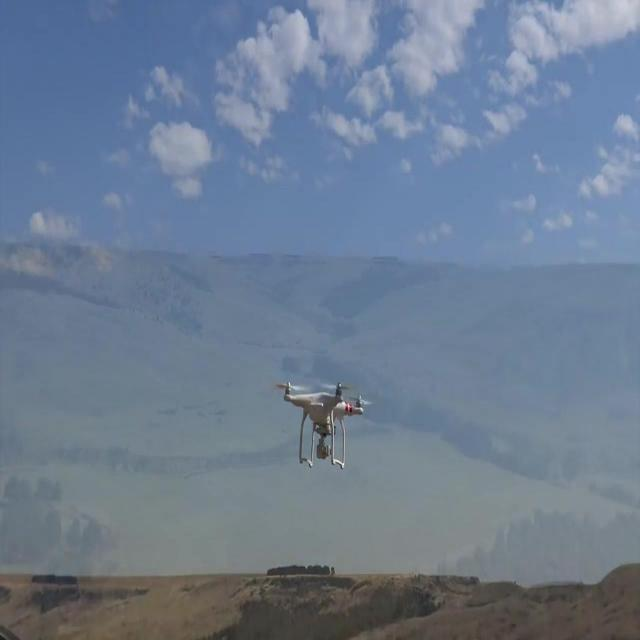UAV: (276, 382, 373, 470)
